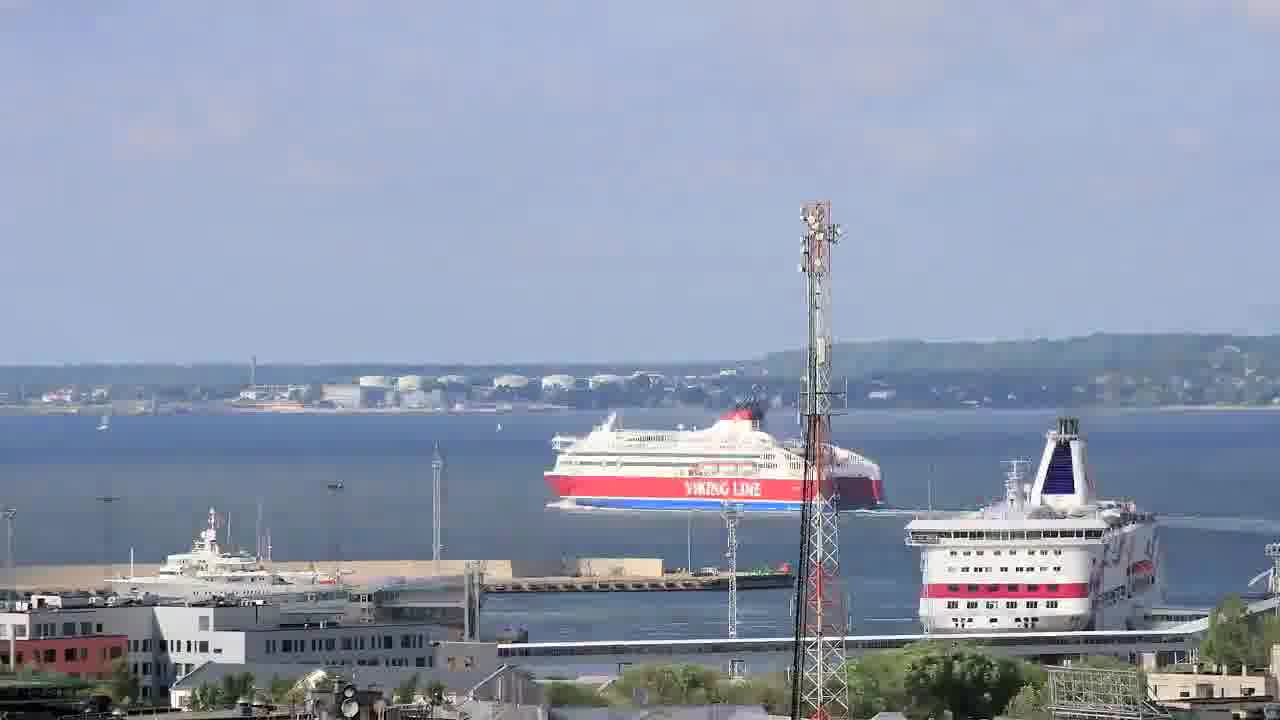type-2: (90, 394, 133, 450)
type-3: (889, 419, 1189, 638), (538, 389, 891, 511), (89, 518, 402, 620)
